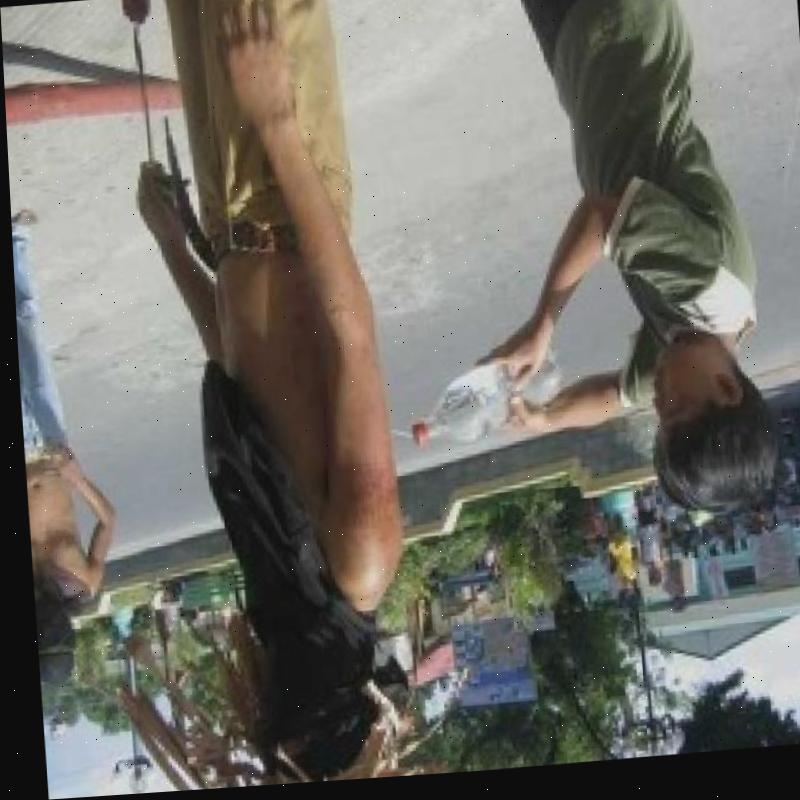botella: (395, 345, 563, 457)
